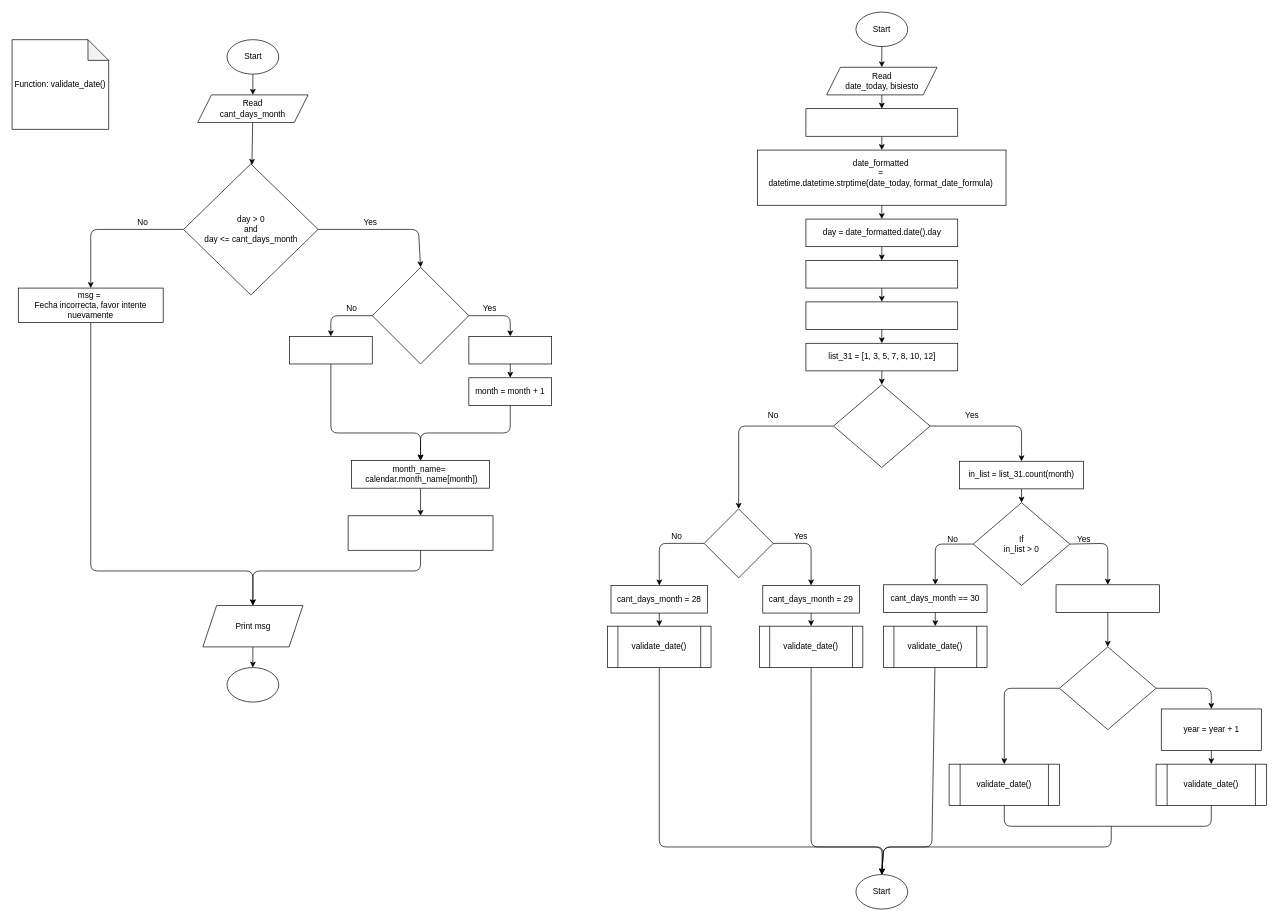
Image size: 1279x921. Some labels were removed from this diagram. Here are the shapes that lost their labels. From the top down, the centre of each, then its label:
pixel 881 122: format_date_formula = '%m/%d/%Y'
pixel 881 274: month = date_formatted.date().month
pixel 420 315: day == cant_days_month
pixel 881 315: year = date_formatted.date().year
pixel 330 350: day = day + 1
pixel 510 350: day = 1
pixel 881 425: If month =! 2
pixel 420 532: msg = "Mañana es " + day + " de " + month_name + " del " + year
pixel 738 543: if bisiesto == 1
pixel 1107 598: cant_days_month == 31
pixel 252 684: End
pixel 1107 688: month == 12
